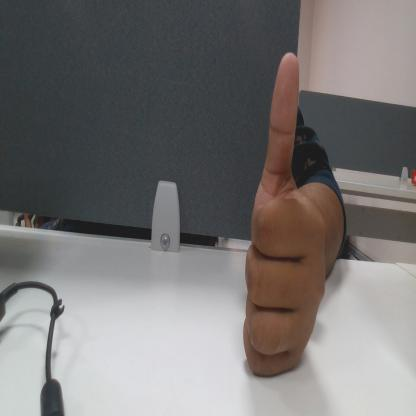Thumbs up: (238, 42, 328, 384)
